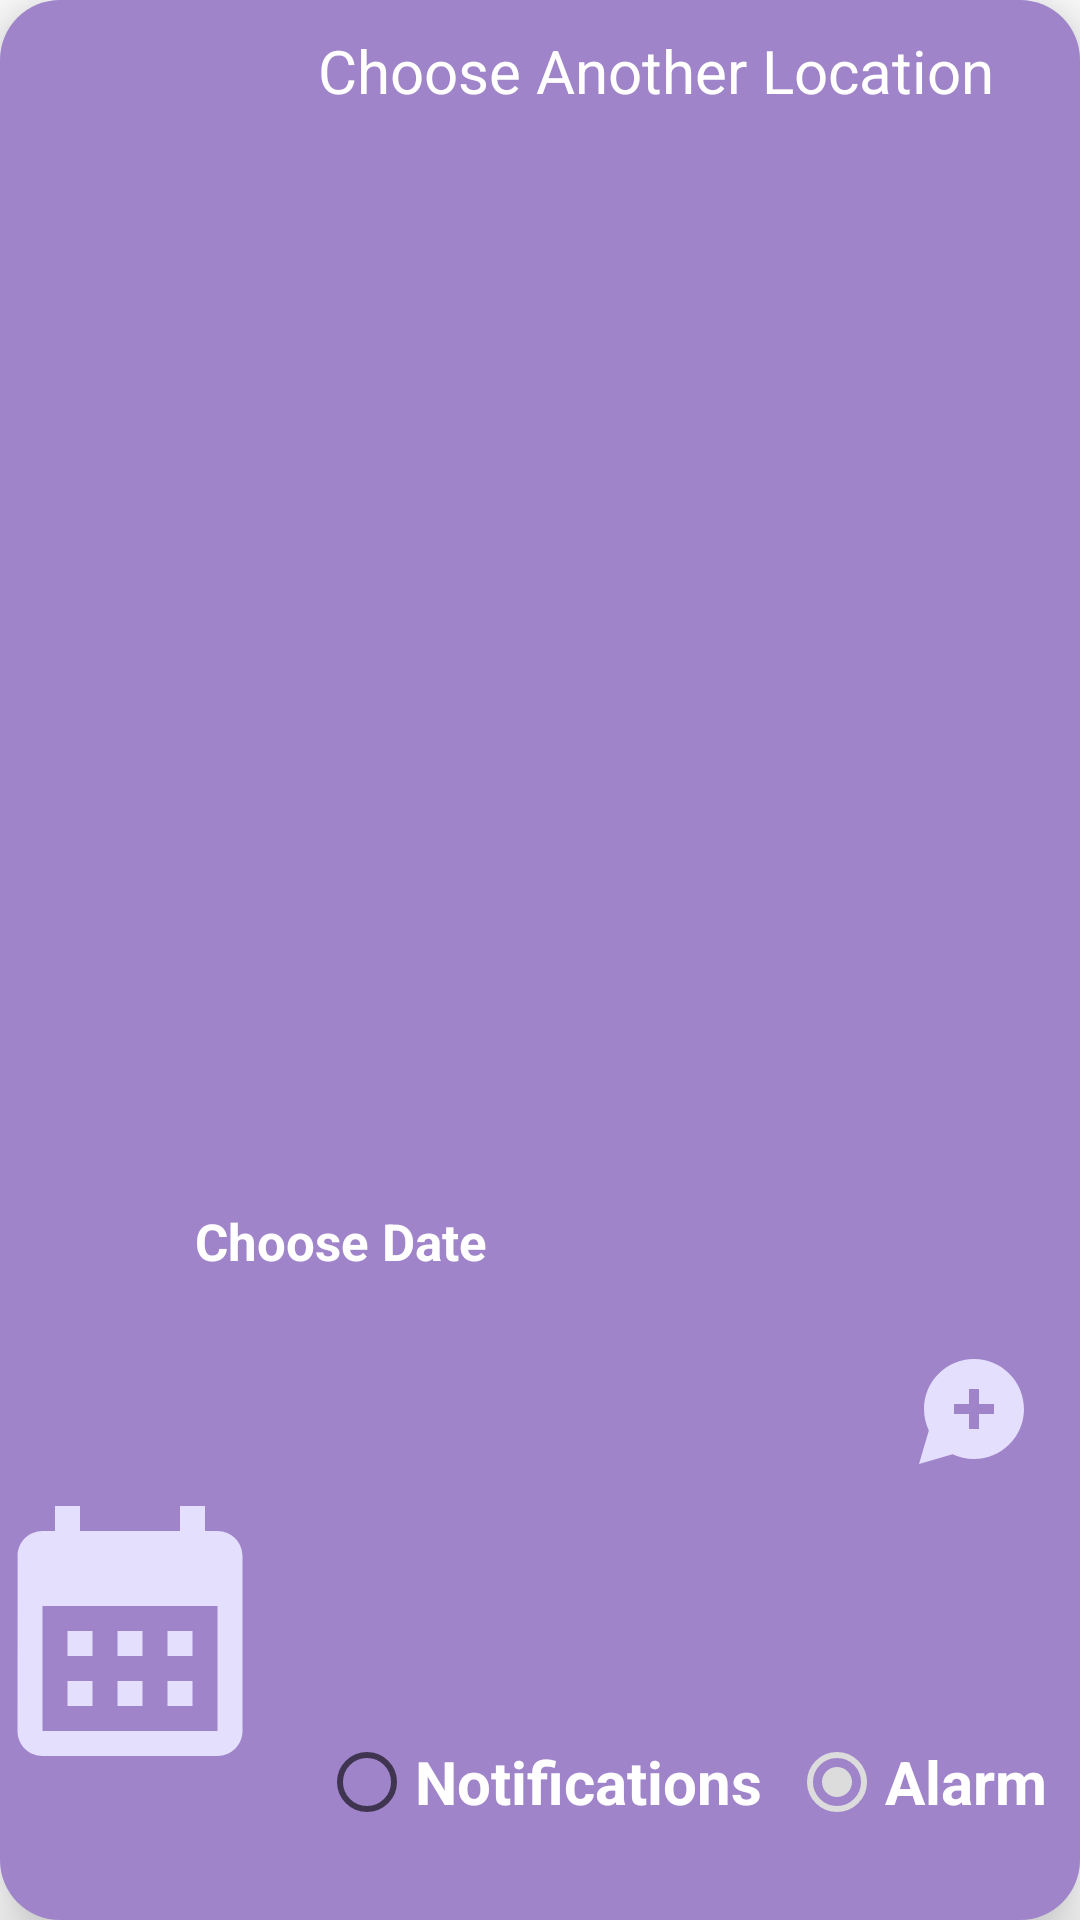

Named icons in this screenshot (1080px x 1920px) and their centers, point (x, y):
calendar month: point (130, 1631)
maps ugc: point (971, 1411)
